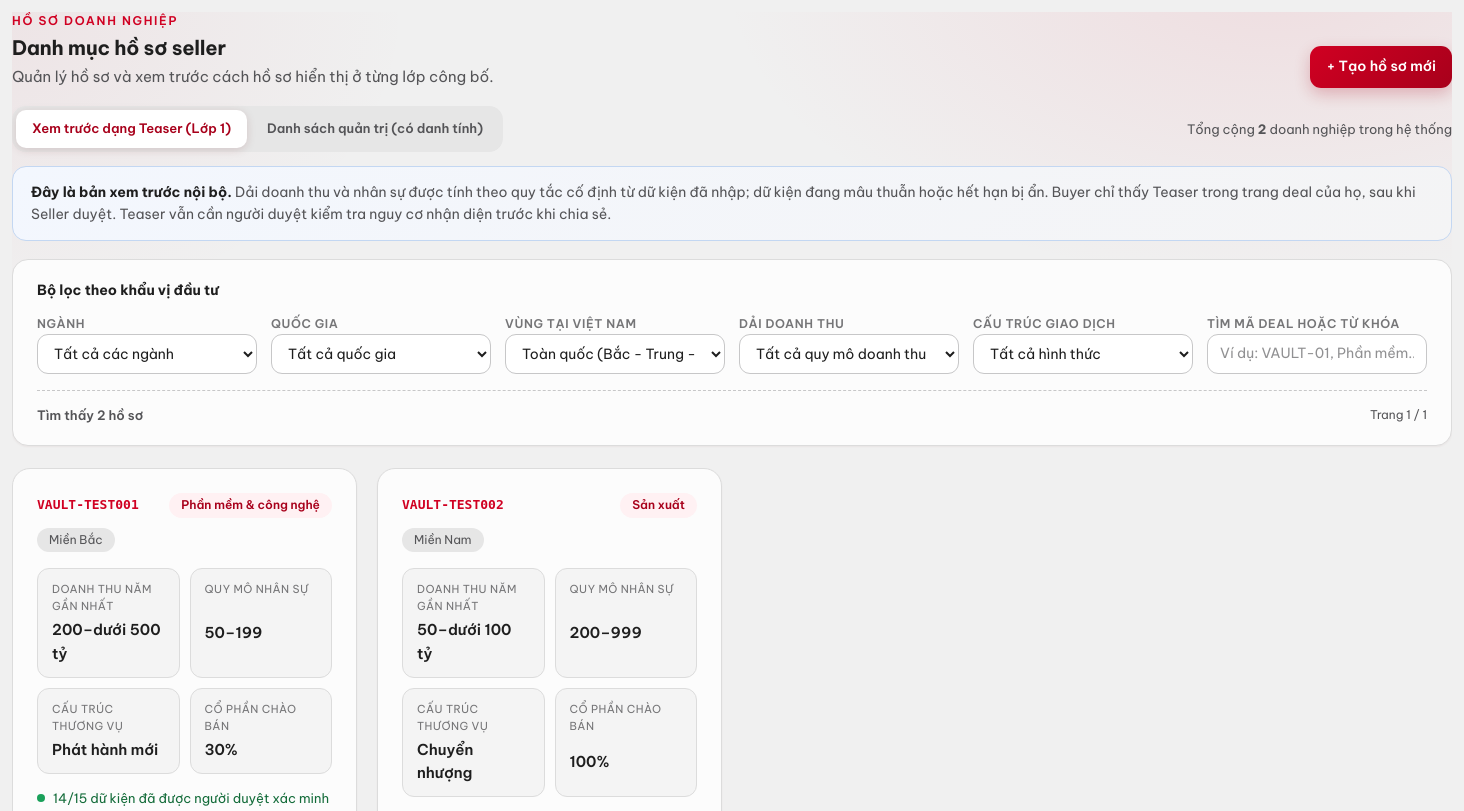
Scenario: renders buyer discovery mode with deal cards and filters by sector
Expected: the text "VAULT-TEST001" is shown, x1=37 y1=495 x2=139 y2=515
Expected: the text "VAULT-TEST002" is shown, x1=402 y1=495 x2=504 y2=515
# Filter by sector: SOFTWARE
Select "Phần mềm & công nghệ" in the dropdown labelled "Ngành" at (147, 354), box x1=37 y1=334 x2=257 y2=374
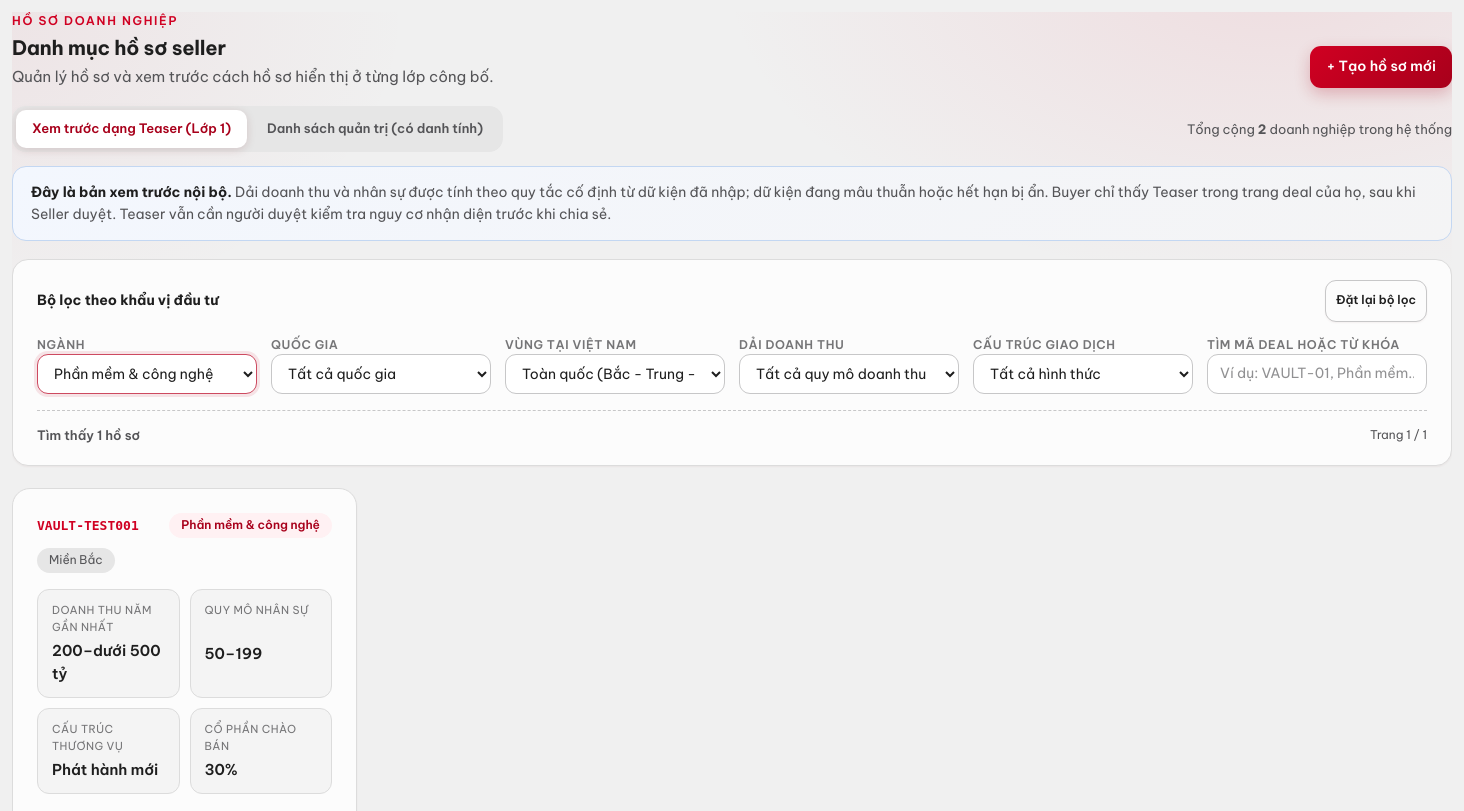
Expected: the text "VAULT-TEST001" is shown, x1=37 y1=516 x2=139 y2=536
Now the text "VAULT-TEST002" is gone
# Reset filters
Click the button "Đặt lại bộ lọc" at (1376, 301), box x1=1325 y1=280 x2=1427 y2=322
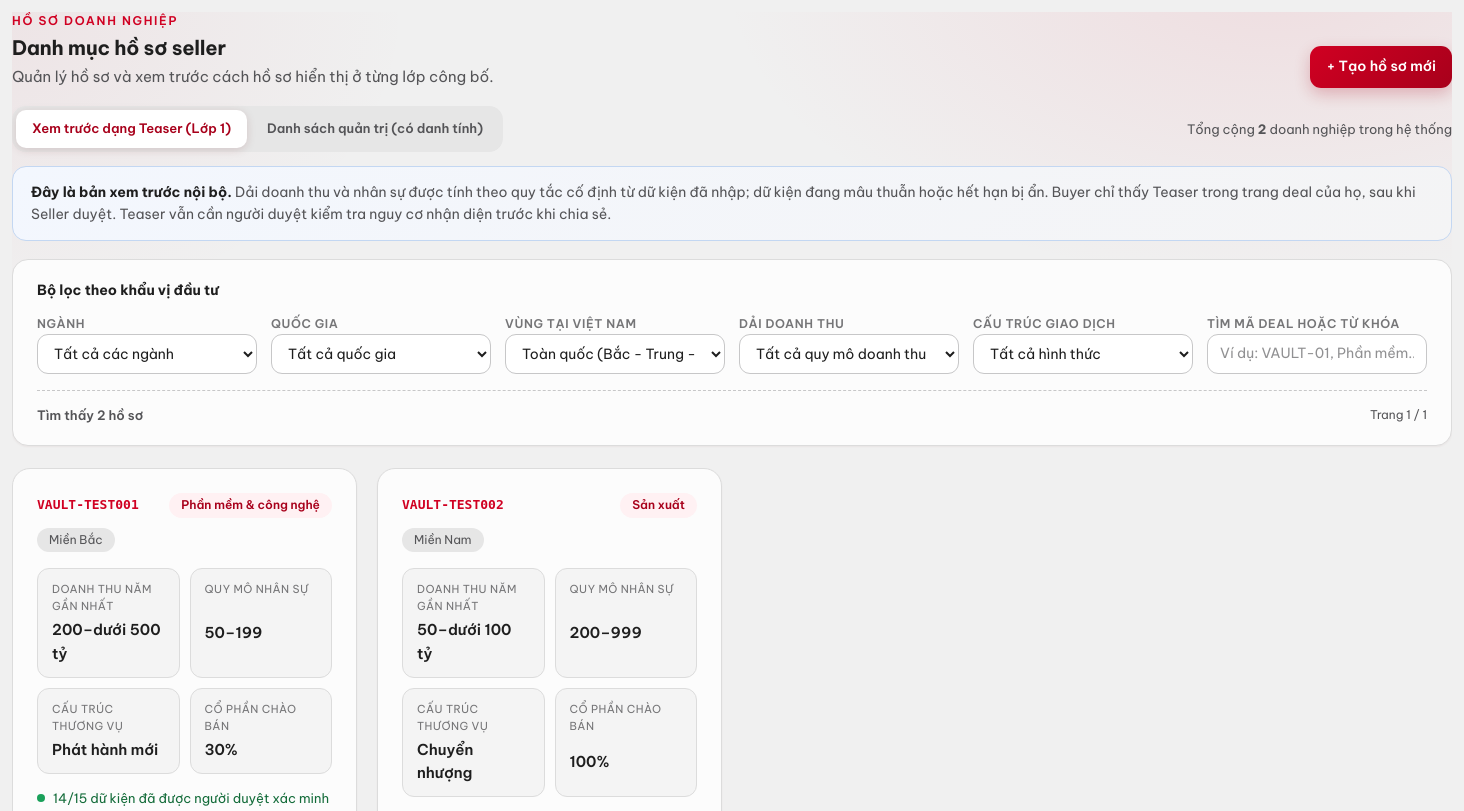
Expected: the text "14/15 dữ kiện đã được người duyệt xác minh" is shown, x1=53 y1=788 x2=329 y2=808
Now the text "VAULT-TEST002" is shown, box x1=402 y1=495 x2=504 y2=515
# Switch to Admin mode
Click the button "Danh sách quản trị (có danh tính)" at (375, 129), box x1=251 y1=110 x2=499 y2=148
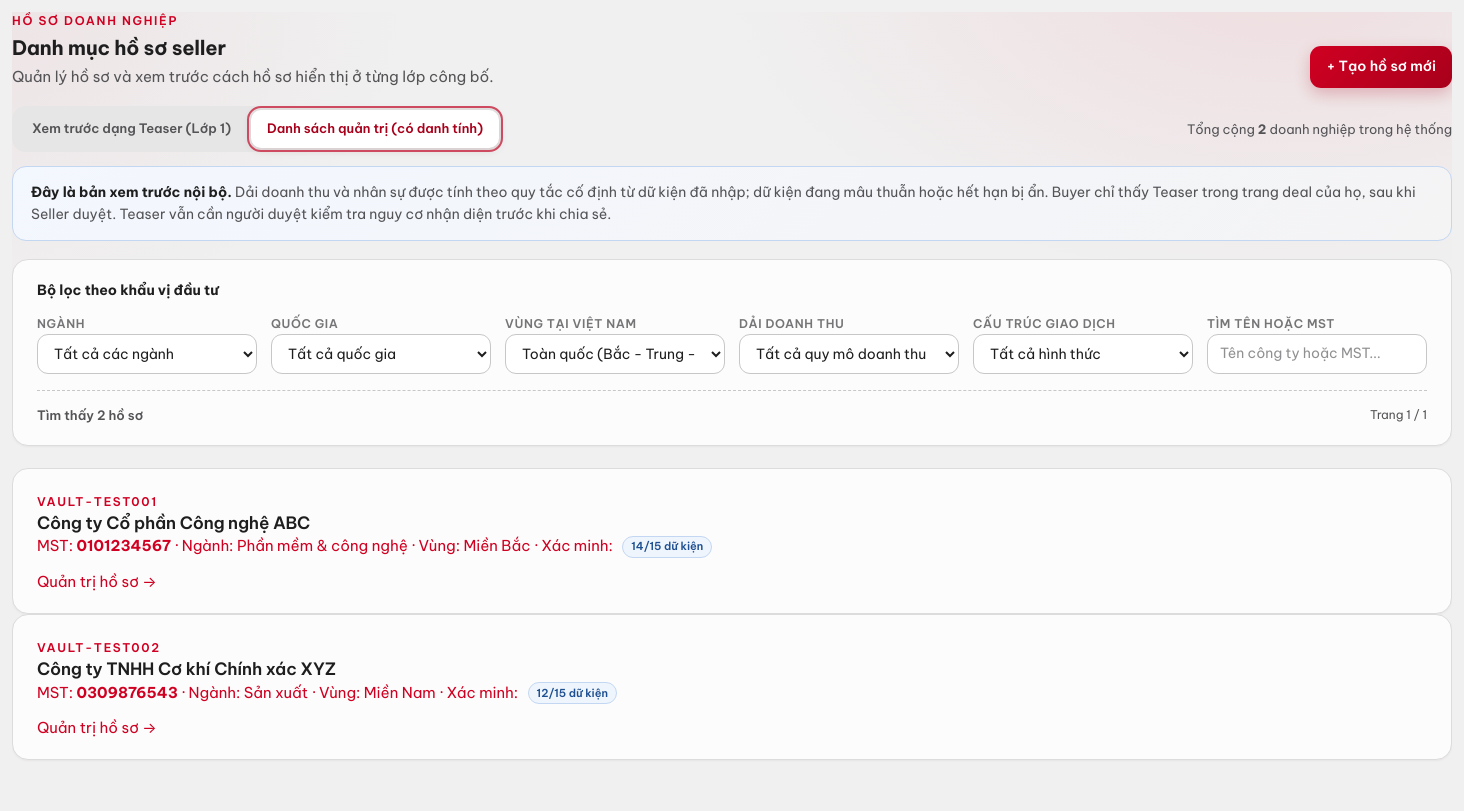
Now the heading "Công ty Cổ phần Công nghệ ABC" is shown, box x1=37 y1=512 x2=310 y2=534
Now the text "0101234567" is shown, box x1=76 y1=536 x2=171 y2=555
